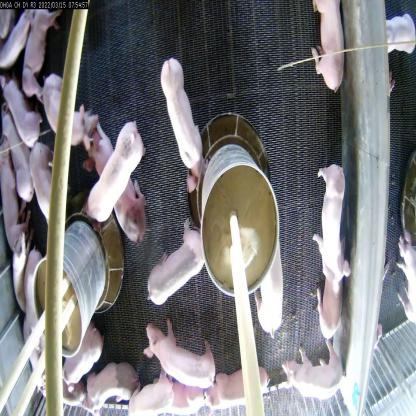Pig: (165, 47, 203, 182), (90, 130, 143, 224), (15, 242, 49, 381), (314, 150, 349, 284), (145, 229, 204, 308), (146, 330, 213, 392), (24, 8, 67, 104), (285, 335, 348, 400), (317, 244, 351, 350), (310, 0, 346, 96), (41, 72, 88, 144), (130, 372, 203, 415), (28, 140, 62, 229), (209, 368, 273, 415), (87, 360, 140, 415), (6, 70, 42, 150), (255, 239, 283, 332), (59, 326, 97, 386), (0, 146, 17, 249)
